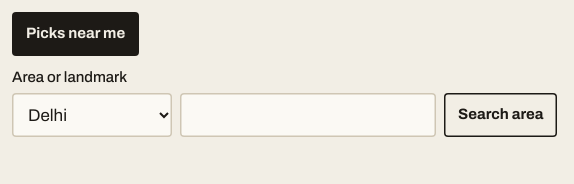
Test case: HomeNearMe › shows the server message for a rate limit, never the code
The image size is (574, 184).
Type "Chandni Chowk" into the search field labelled "Area or landmark".
click(308, 115); type("Chandni Chowk")  # box [180,93,436,137]
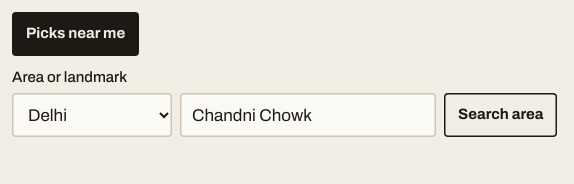
Click the button "Search area".
click(501, 115)  # box [444,93,558,137]
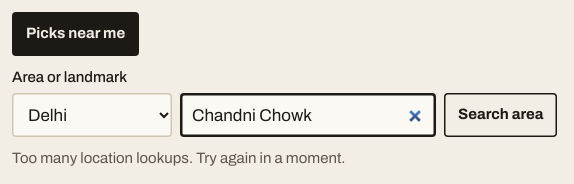
Expected: the text "Too many location lookups. Try again in a moment." is shown, [12,151,346,167]
